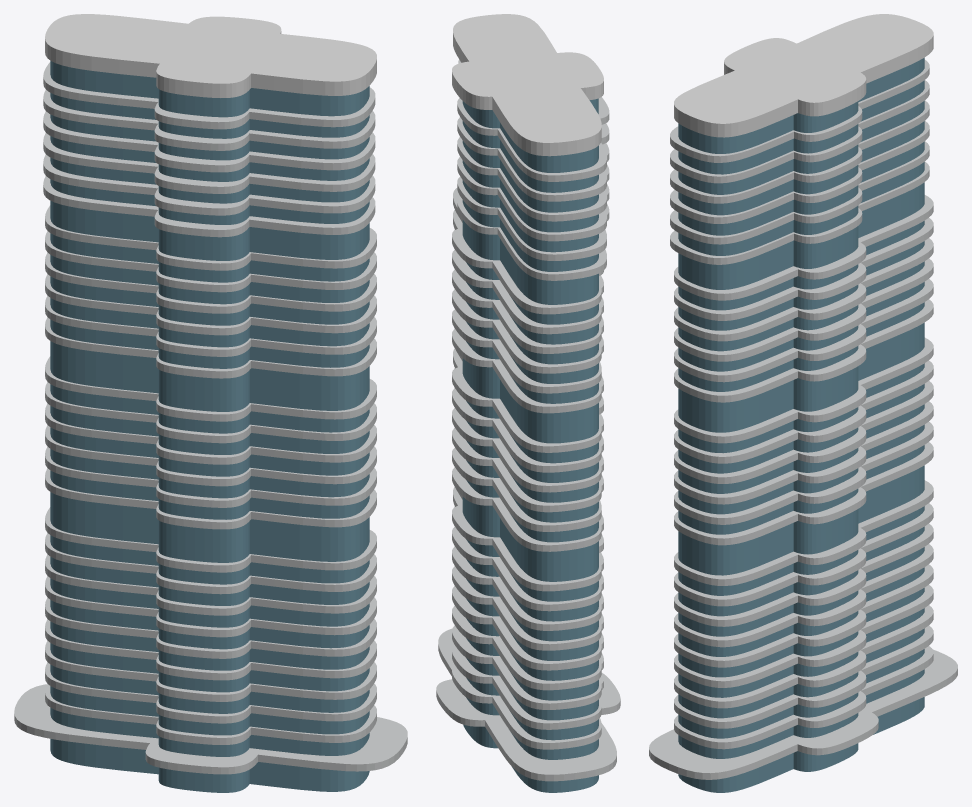
File: Highrise.glb
3 views of the same model, side by side, from view 1: azimuth 30°, elevation 25°; view 2: azimuth 150°, elevation 25°; view 3: azimuth 270°, elevation 25° (orthographic). The views are drawn at different scales.
Parts seen in each view (by area): view 1: Mesh_Mesh_head_geo.001_lambert2SG.001; view 2: Mesh_Mesh_head_geo.001_lambert2SG.001; view 3: Mesh_Mesh_head_geo.001_lambert2SG.001.
Boxes of the visible parts, box(x1,y1,x2,y2) form: Mesh_Mesh_head_geo.001_lambert2SG.001: box(14, 14, 407, 792); Mesh_Mesh_head_geo.001_lambert2SG.001: box(436, 14, 620, 792); Mesh_Mesh_head_geo.001_lambert2SG.001: box(649, 14, 957, 792).
Bounding box in the file's own units: 0.0413 × 0.099 × 0.0412.
